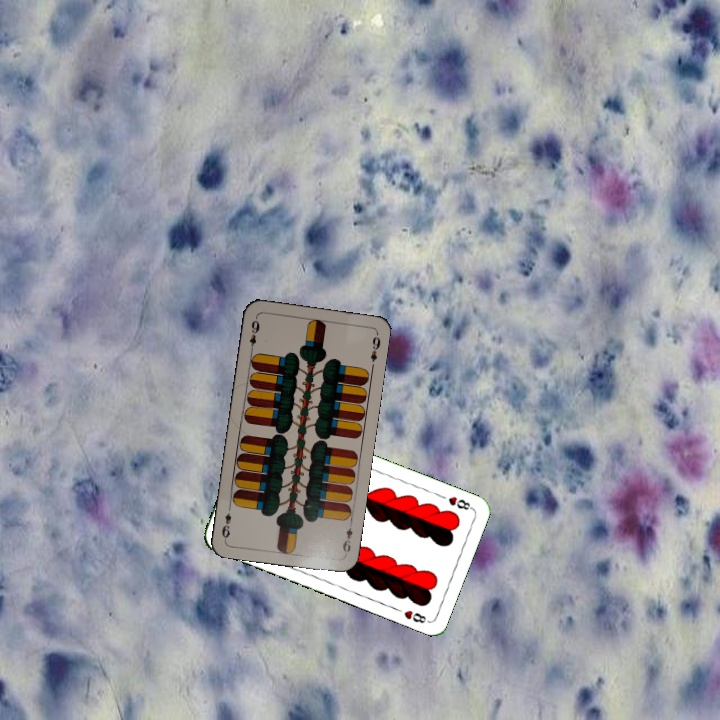E9: (245, 314, 262, 354), (338, 518, 355, 558)
H8: (444, 492, 475, 513)
